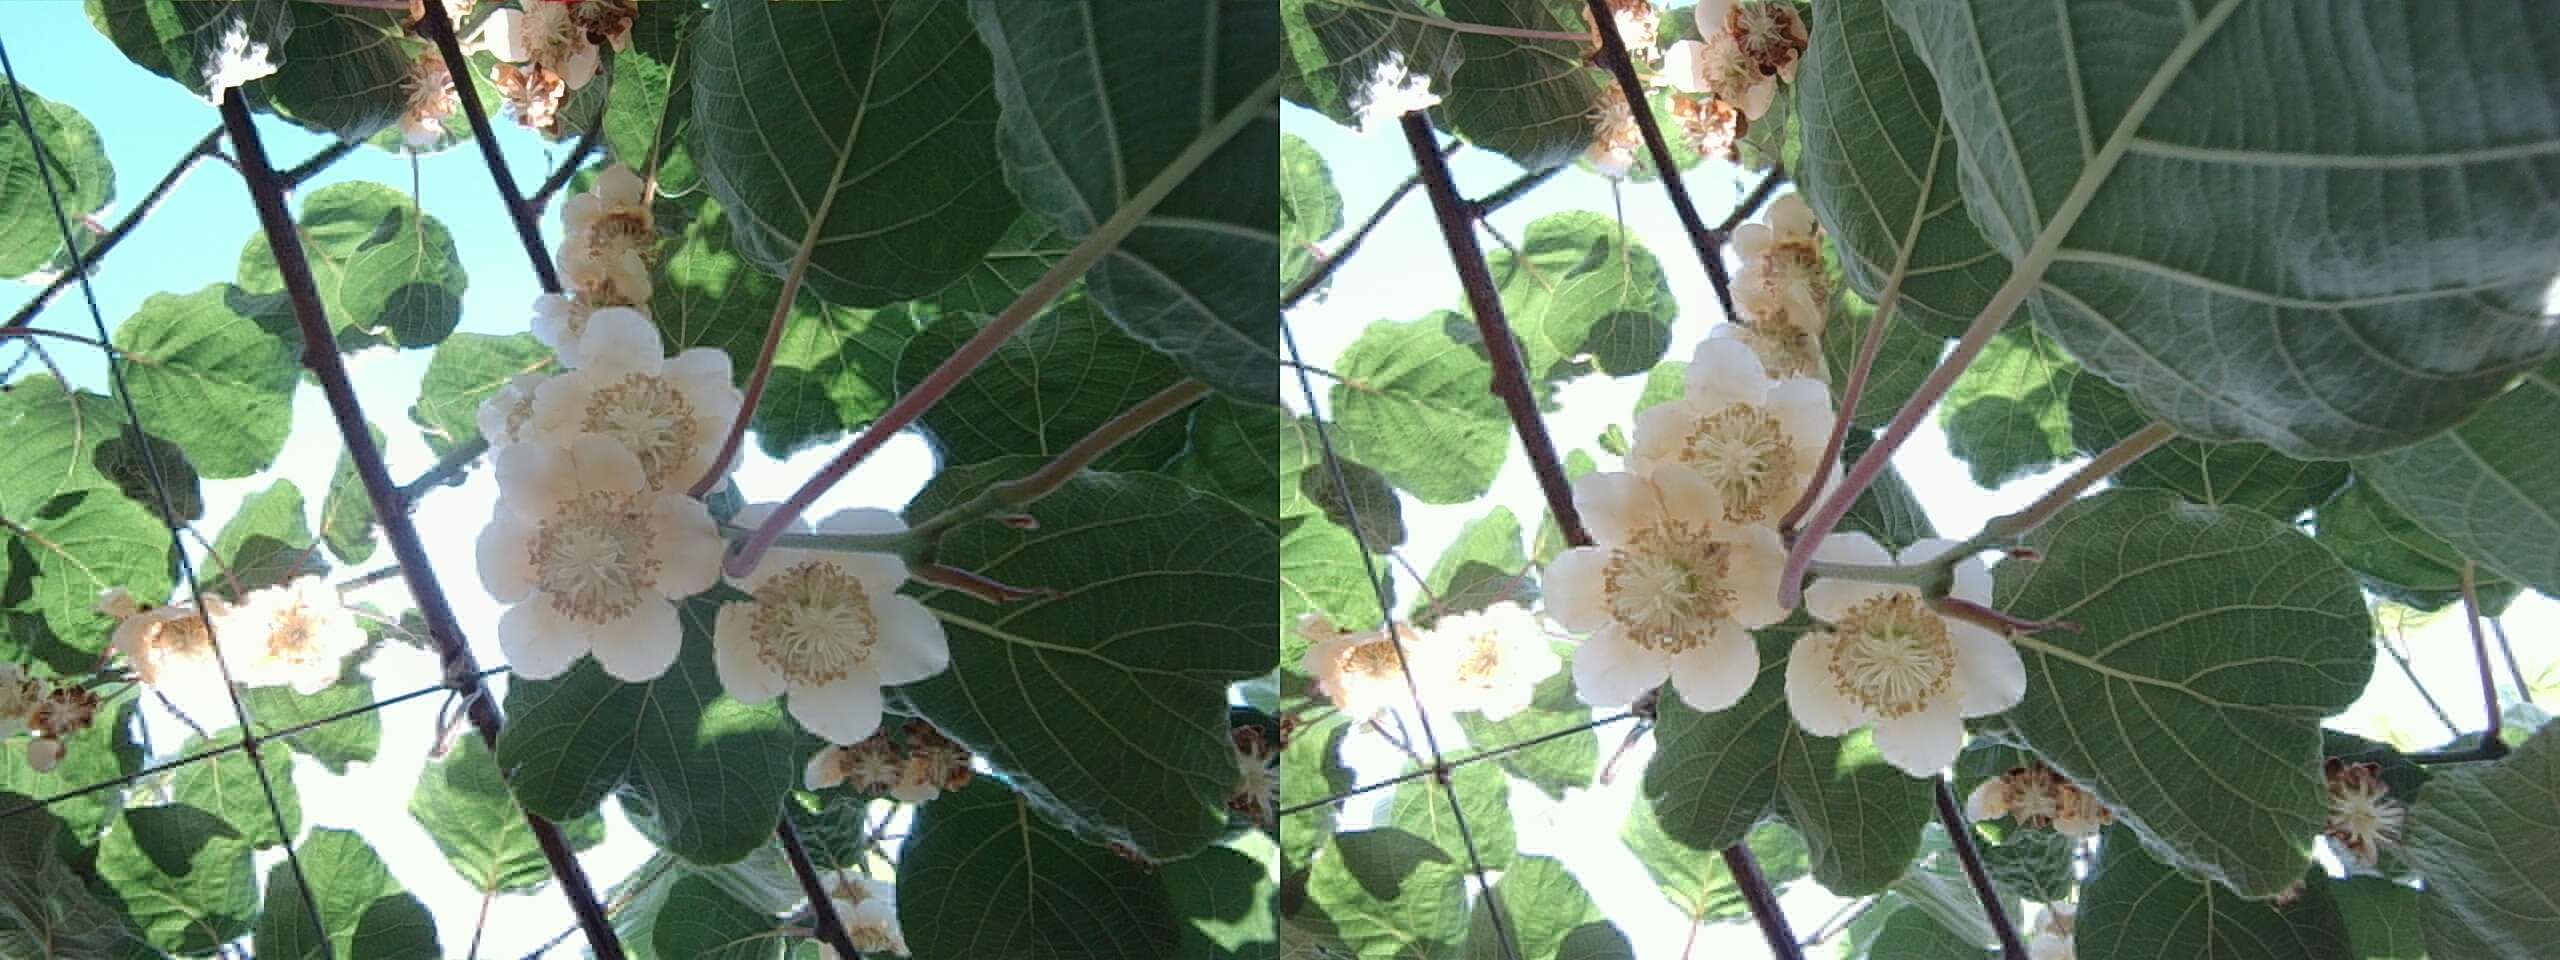flower: (467, 433, 723, 674), (1540, 465, 1793, 705), (1773, 567, 2021, 772), (700, 529, 939, 731), (1629, 336, 1832, 531), (503, 328, 740, 493), (1714, 193, 1843, 369), (544, 173, 661, 322), (1673, 3, 1806, 114)
